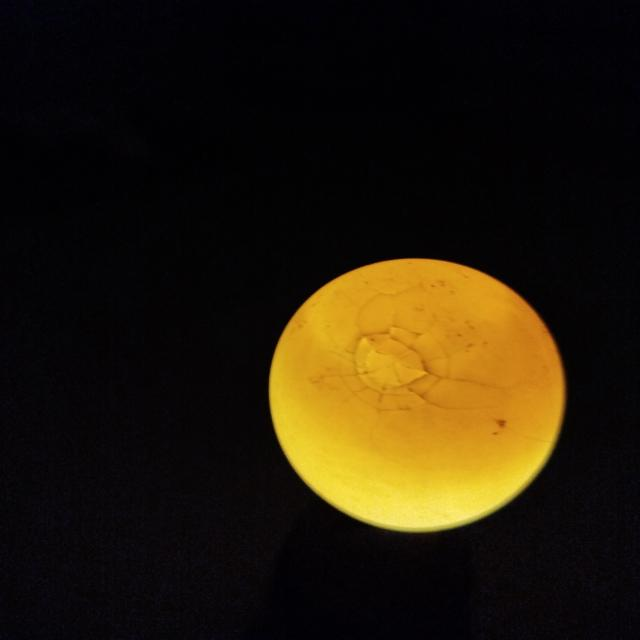Rachadura: (341, 286, 510, 410)
